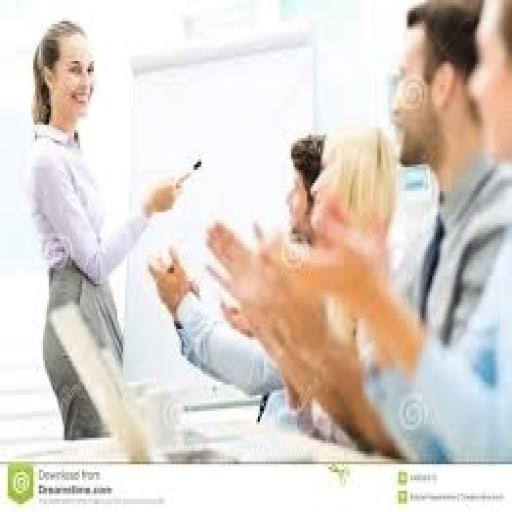clapping: (201, 0, 510, 462)
